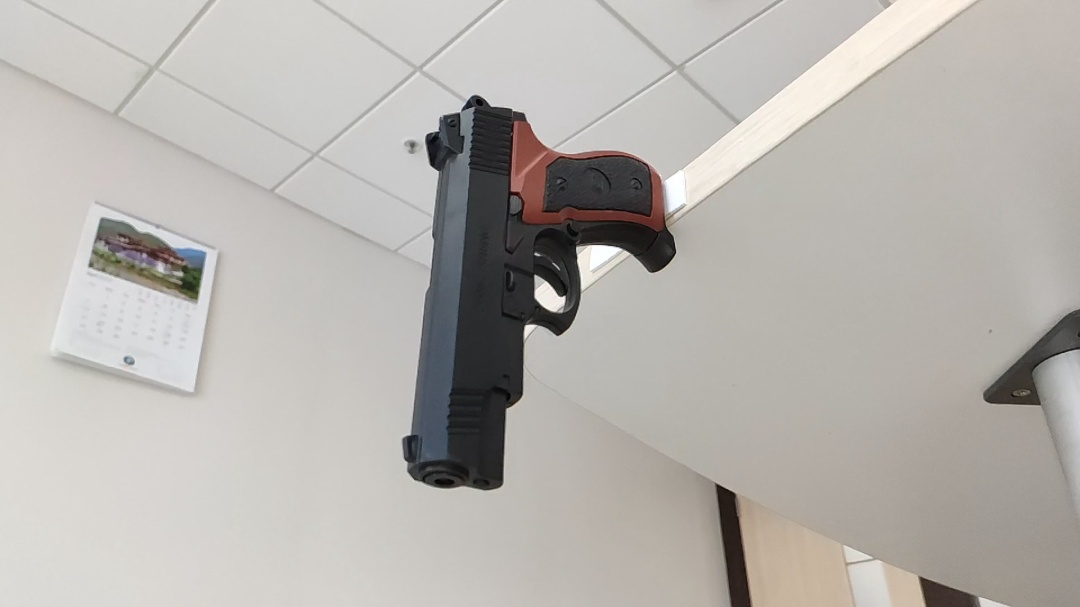gun: (395, 92, 685, 497)
